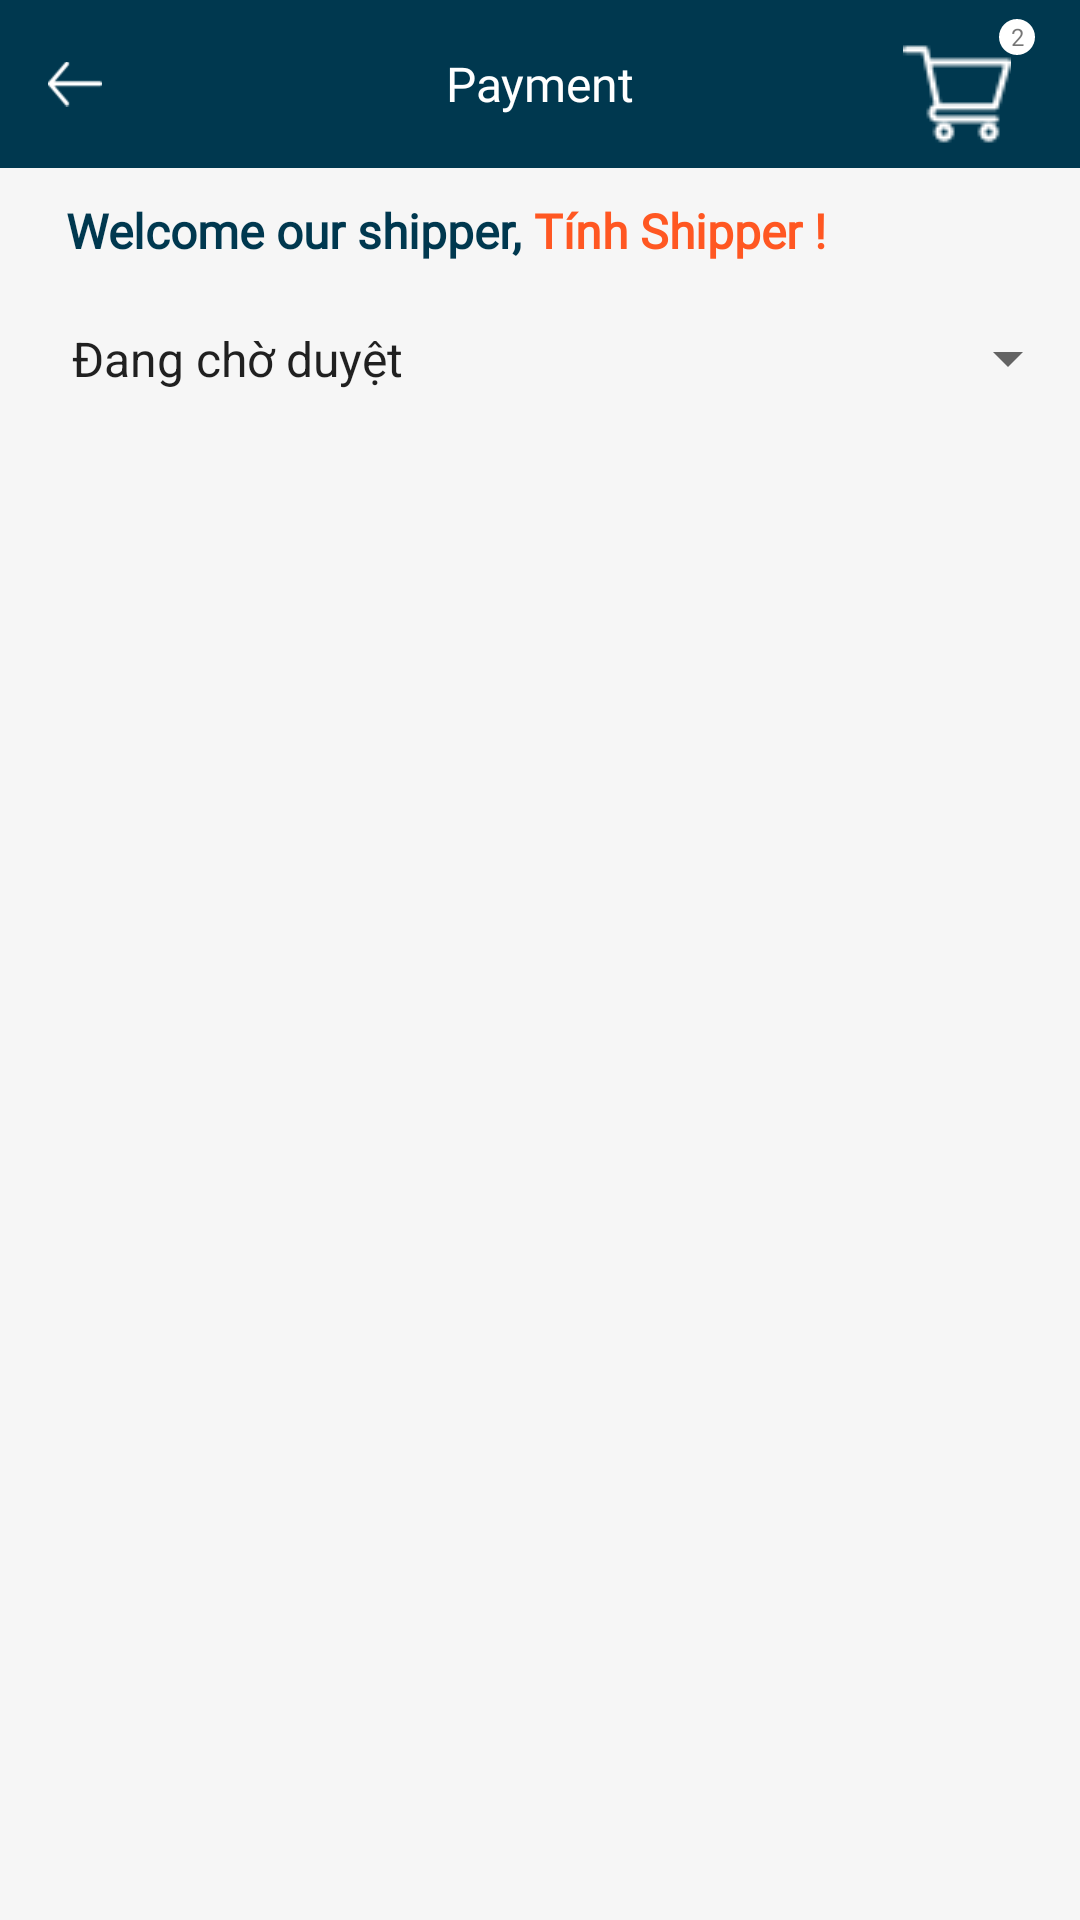

Screen size 1080px×1920px. Icon name, then its box in pixels as (x1, y1, x2, y2):
back: (48, 62, 102, 107)
supermarket: (903, 45, 1011, 143)
